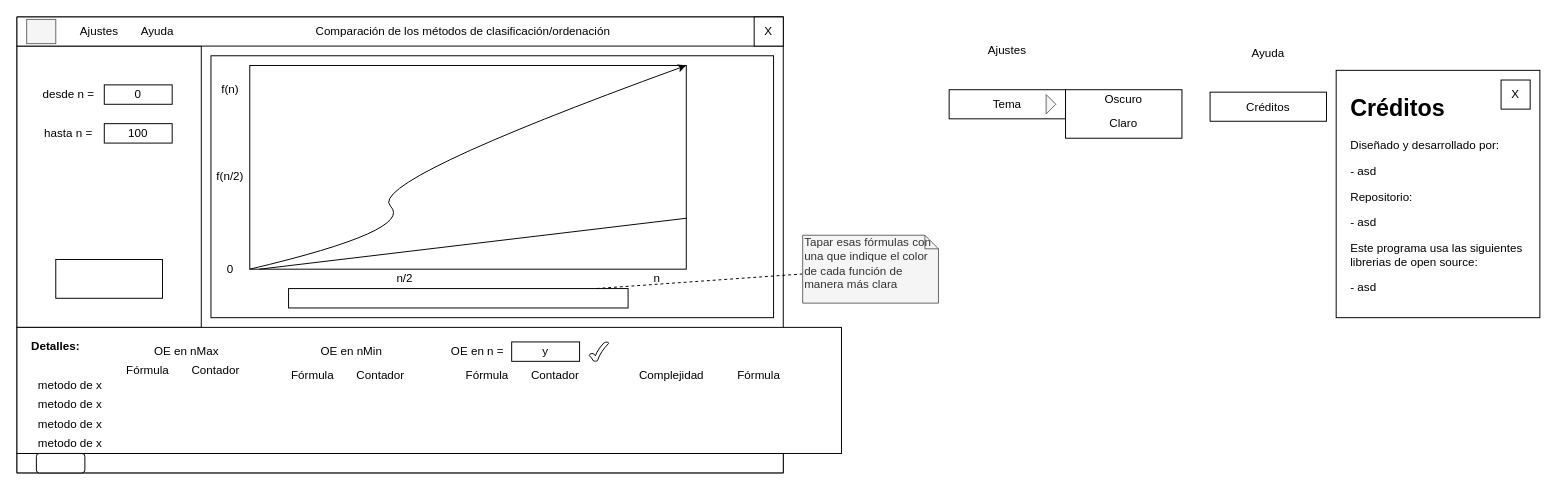
Image size: 1557x490. Some labels were removed from this diagram. The centre of each missing label's shape, as x and y in pixels:
"f(x) = y(x), ..., g(x) = y_0(x)" belongs at pixel 458 298.
"graficar" belongs at pixel 108 278.
"SJ" belongs at pixel 41 31.
